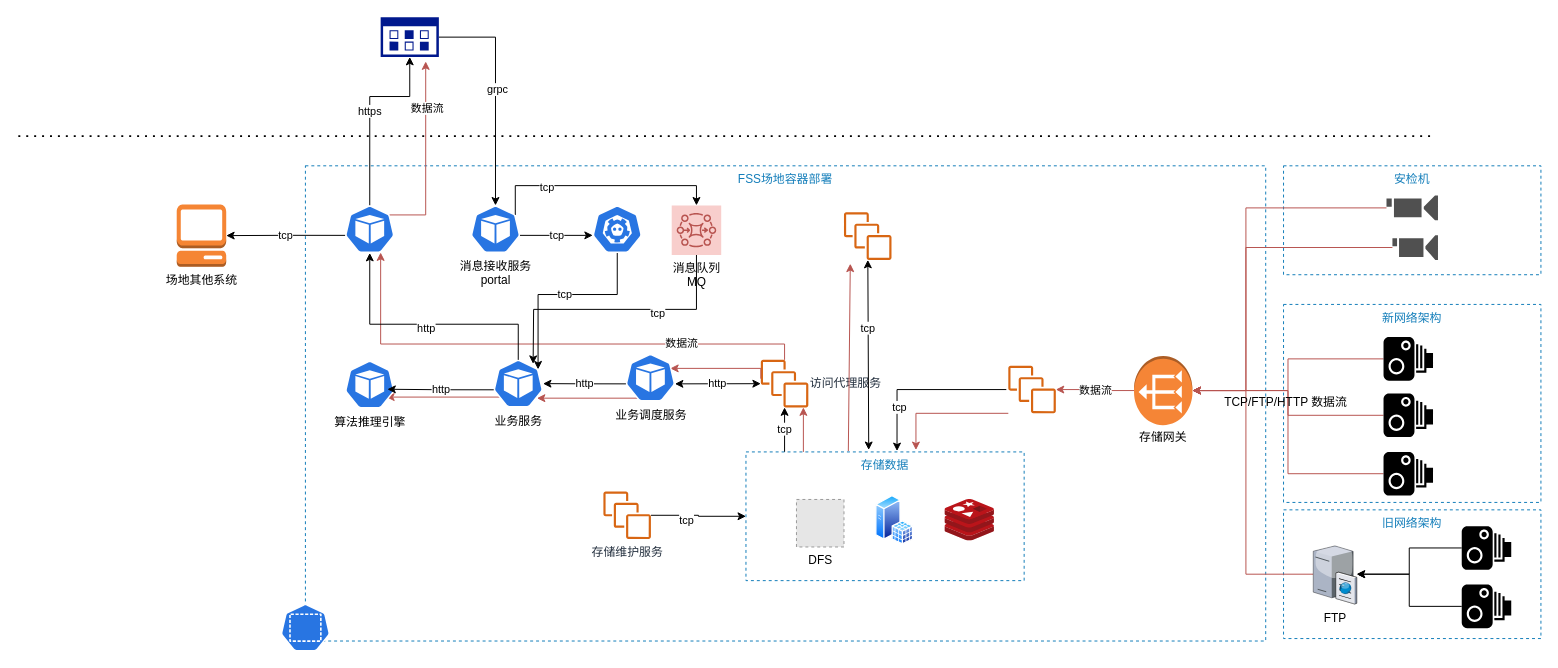
Image size: 1558x668. Some labels were removed from this diagram. Grey dashed boxes stand in for pictures. The shapes that lost their labels are listed below. From the top down, each one's centre as x and y in pixels, then its label:
point (409, 36): clos
point (369, 228): 消息上报服务 alter
point (617, 228): 配置管理 ETCD
point (867, 235): 查询服务
point (1031, 389): 存储服务
point (894, 519): SQL
point (969, 520): Redis
